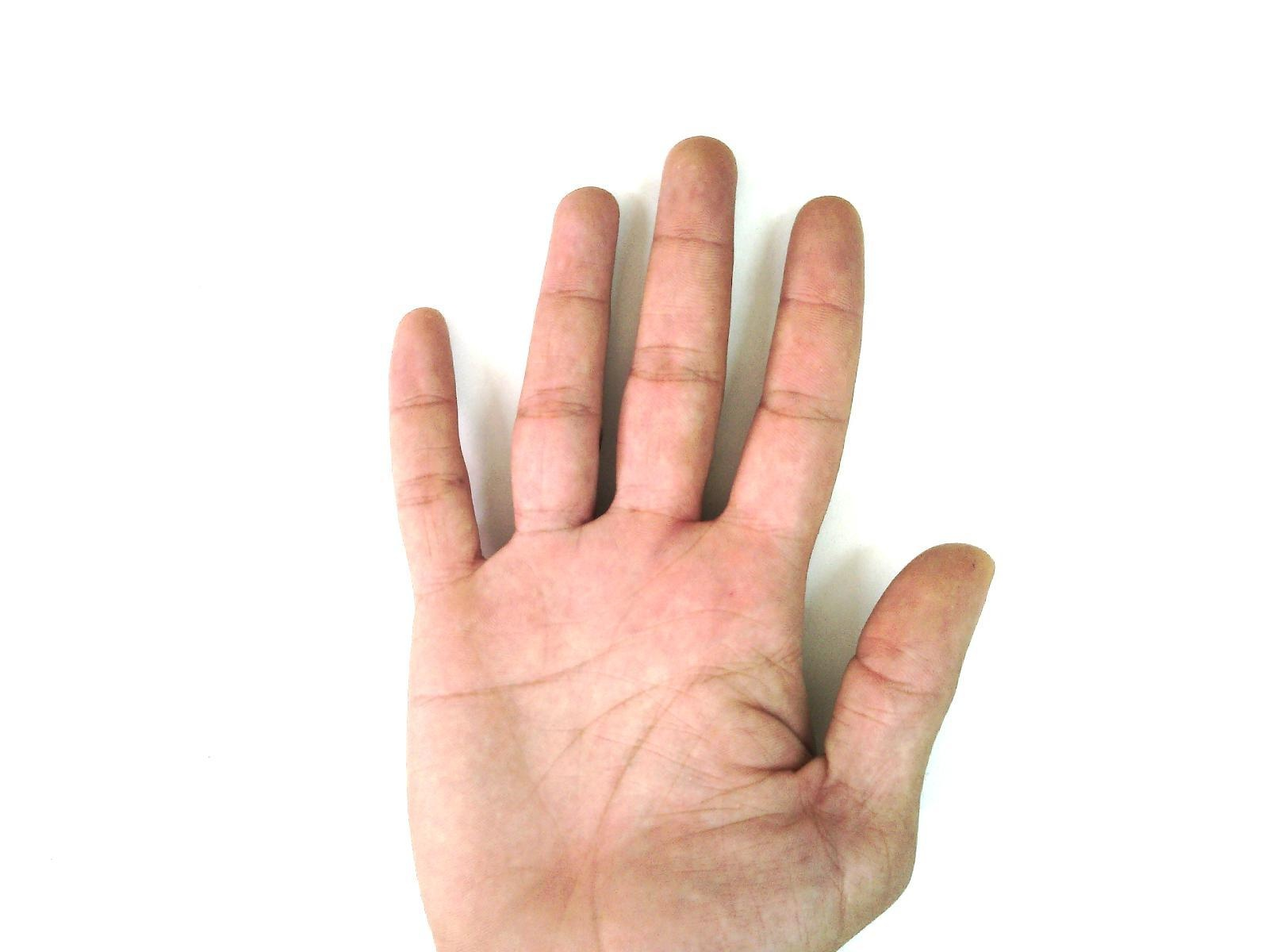open_palm: (384, 134, 998, 951)
